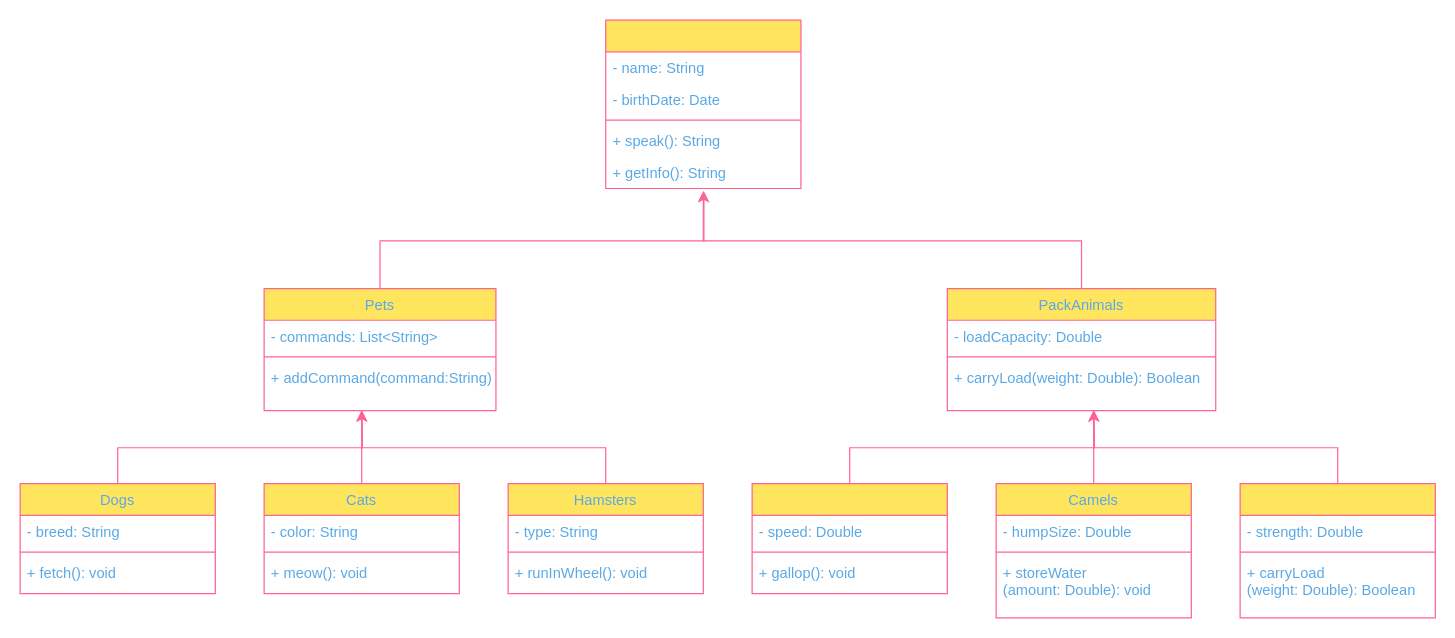
This 1455x638 diagram has some shape labels left out. The box of each missing label's shape, as (x1, y1, x2, y2) in pixels:
Animals: (605, 19, 801, 188)
Donkeys: (1239, 483, 1435, 618)
Horses: (751, 483, 947, 594)
